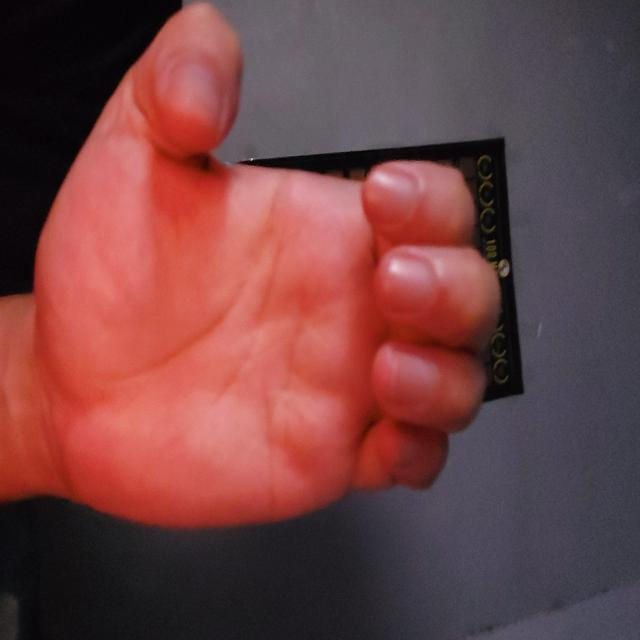E: (0, 133, 534, 610)
